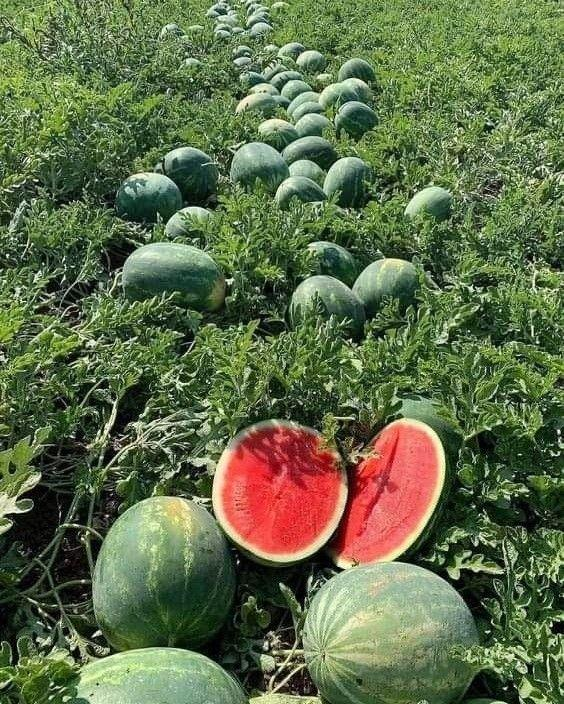watermelon: (303, 563, 492, 704), (84, 490, 240, 643), (204, 413, 351, 568), (354, 413, 457, 566), (116, 235, 231, 324)
